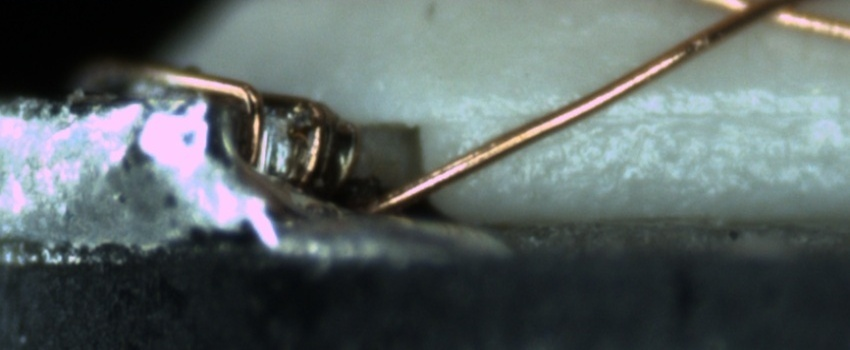CL: (701, 1, 827, 34)
DL: (465, 79, 849, 141)
TE: (95, 56, 364, 194)
